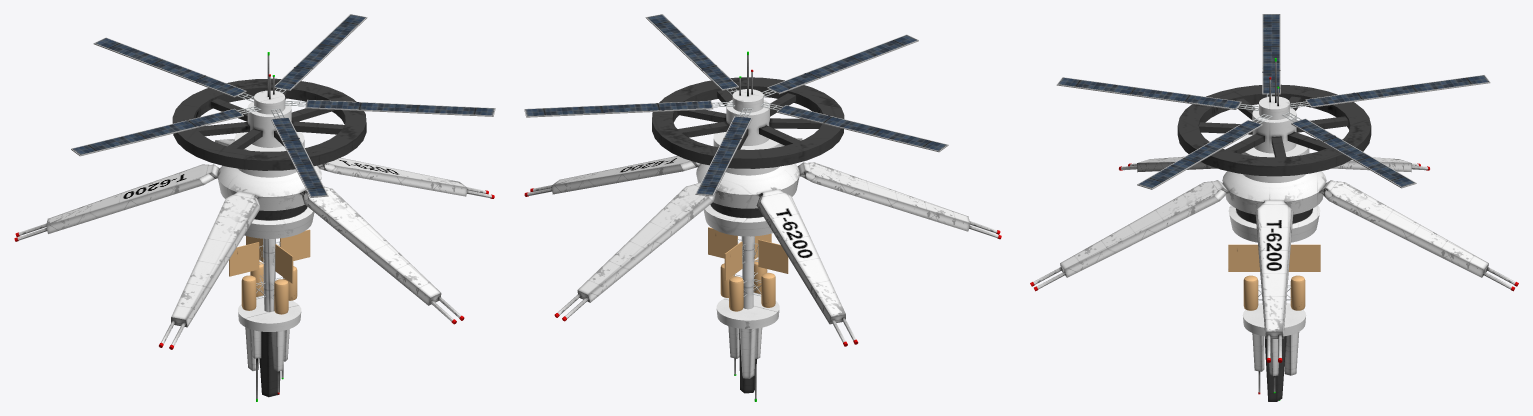
The model's file is SpaceStation.obj.
3 renders of one model, left to right at view 1: azimuth 30°, elevation 25°; view 2: azimuth 150°, elevation 25°; view 3: azimuth 270°, elevation 25°, orthographic.
Parts seen in each view (by area): view 1: Space_Station; view 2: Space_Station; view 3: Space_Station.
Boxes of the visible parts, x1,y1,x2,y2 form: Space_Station: [14, 14, 495, 401]; Space_Station: [524, 14, 1001, 401]; Space_Station: [1030, 14, 1518, 401].
Size of the model in its own units: 9.21 by 7.34 by 9.38.
1 material, 1 textured.
